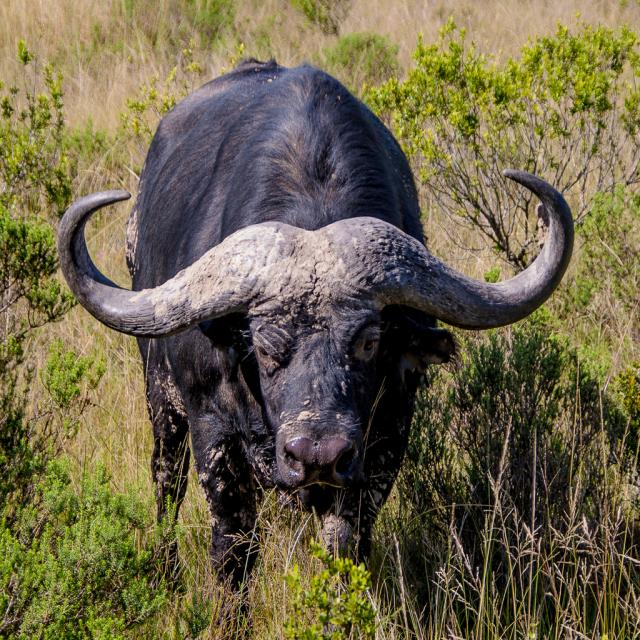Cattle: (57, 57, 574, 640)
